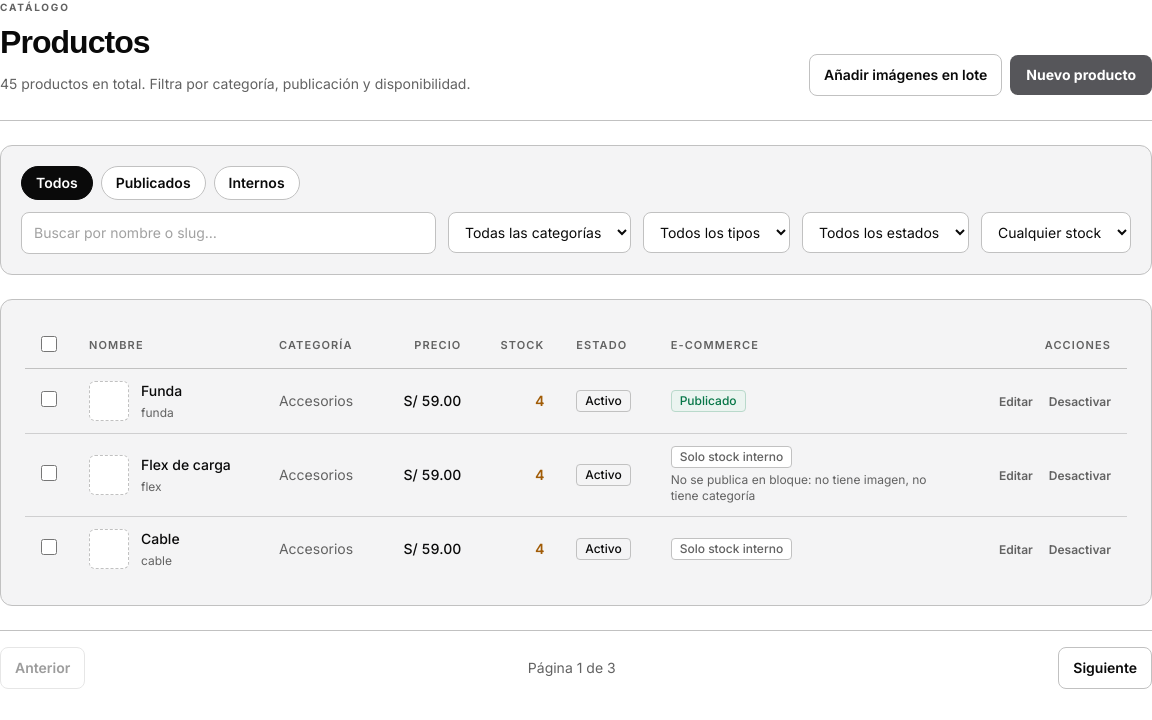
it: la selección › desmarcar una fila de «todo lo que coincide» deja la página menos esa fila
The width and height of the screenshot is (1152, 720).
Expected: the link "Funda" is shown, [141,382,182,399]
Click the checkbox named "Seleccionar los 3 productos de esta página" at (49, 344), box [41,336,57,352]
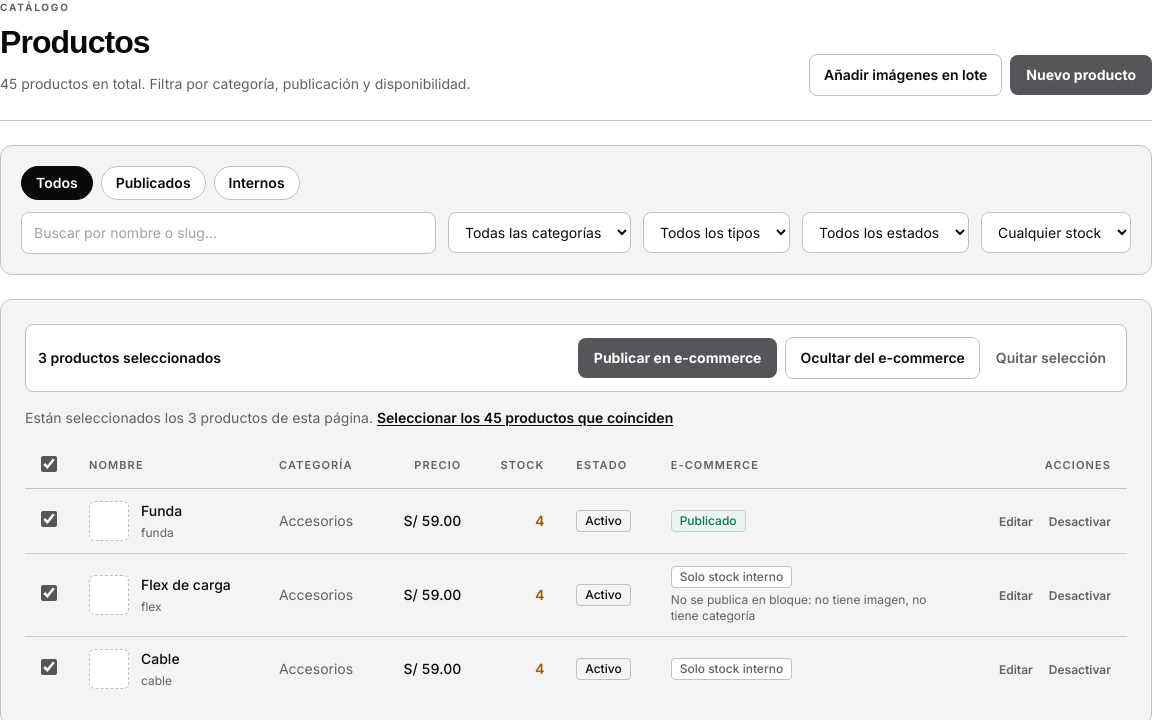
Click the button "Seleccionar los 45 productos que coinciden" at (525, 418), box [377,408,673,428]
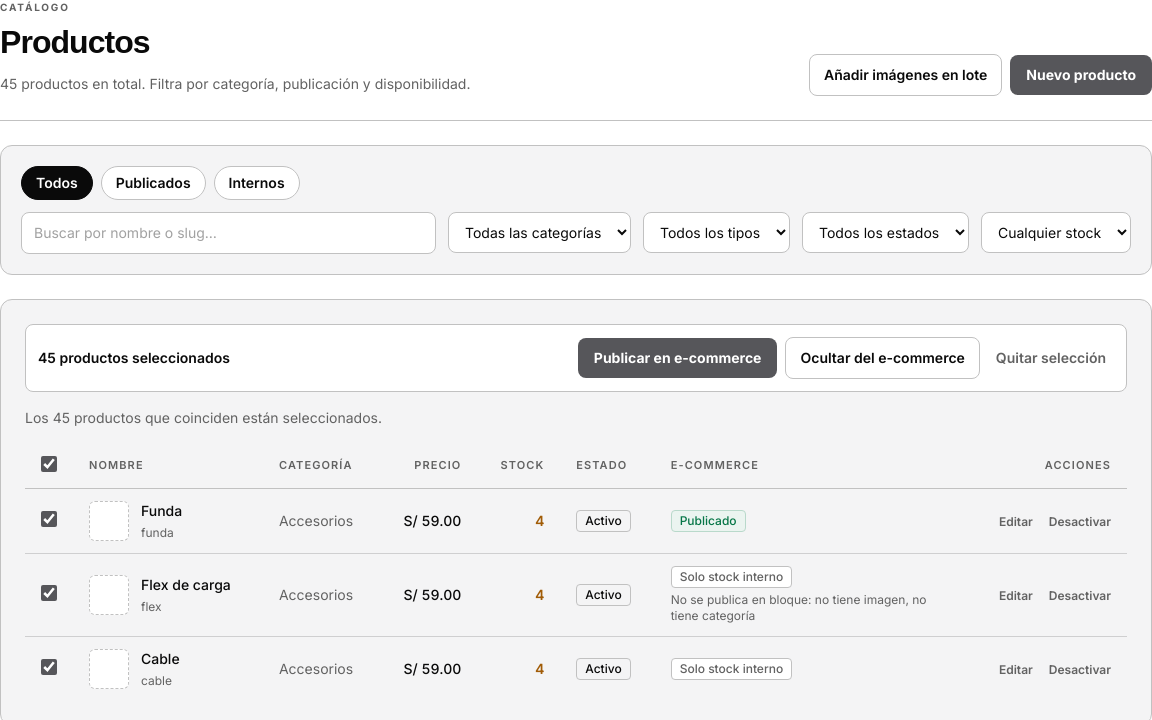
Click the checkbox named "Seleccionar Cable" at (49, 667), box [41,659,57,675]
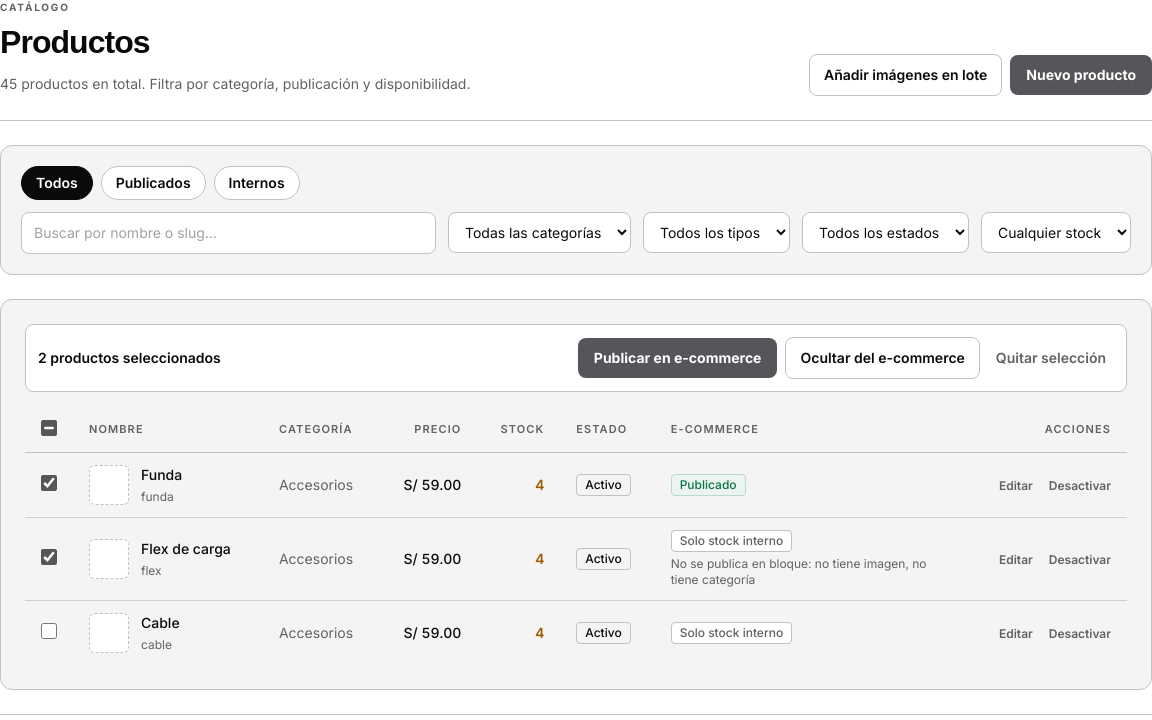
Expected: the text "2 productos seleccionados" is shown, [38,348,221,368]
Expected: the text "que coinciden están seleccionados" is gone
